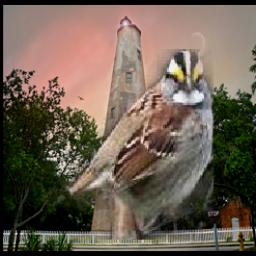Sparrow: (21, 49, 214, 240)
